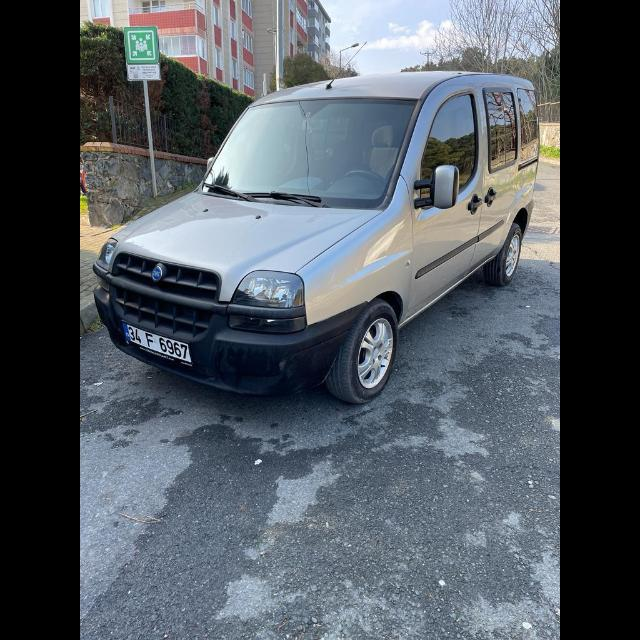Plaka: (123, 322, 191, 362)
